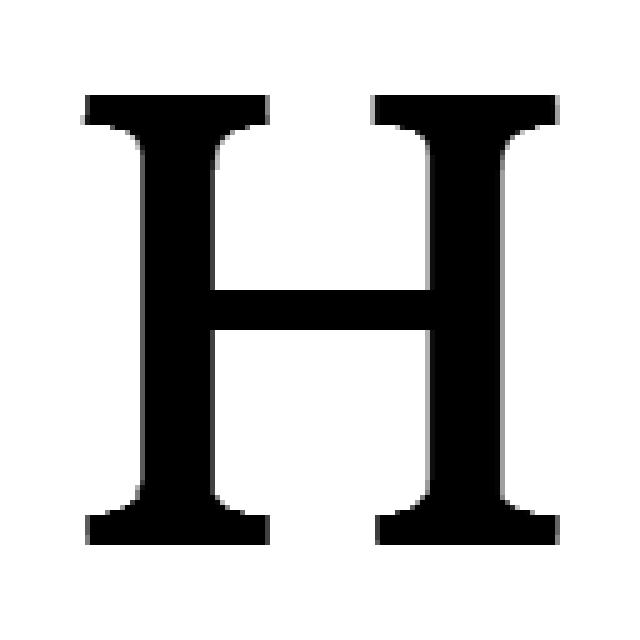H: (85, 95, 560, 545)
